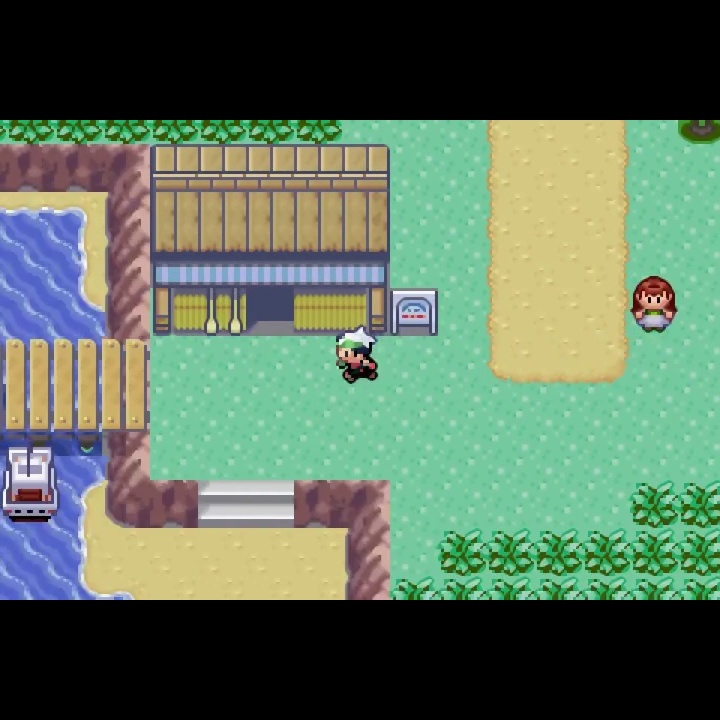grass: (582, 528, 631, 576), (631, 528, 679, 576), (630, 480, 678, 527), (534, 529, 581, 577), (439, 529, 487, 575), (489, 529, 534, 576), (679, 479, 720, 528), (679, 527, 720, 575), (534, 575, 585, 600), (6, 119, 55, 144), (54, 120, 105, 144), (246, 120, 296, 144), (440, 576, 489, 600), (488, 575, 535, 600), (584, 575, 632, 599), (632, 575, 678, 600), (151, 120, 200, 143), (199, 121, 247, 144), (104, 120, 152, 143), (678, 574, 720, 600), (295, 120, 342, 143), (390, 578, 439, 600)
house: (146, 142, 390, 338)
npc: (625, 273, 683, 337), (332, 323, 383, 385)
wall: (676, 120, 720, 147)
